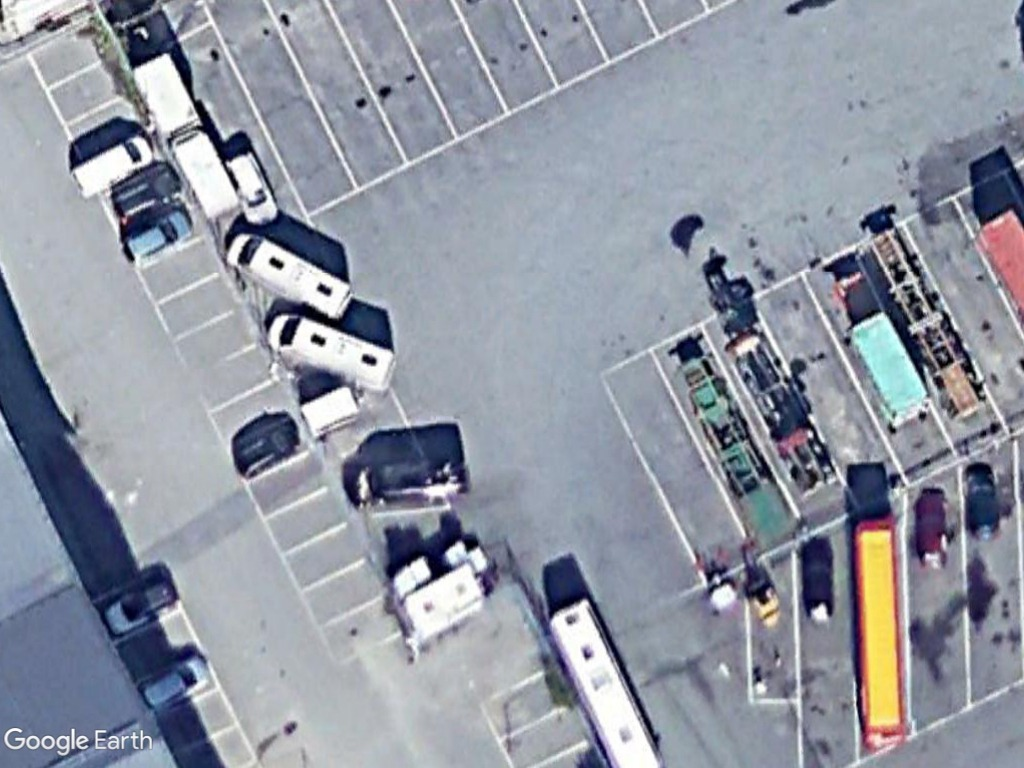car: (98, 570, 187, 641), (106, 151, 185, 226), (117, 197, 197, 270), (131, 650, 216, 714), (223, 144, 282, 230)
van: (258, 303, 404, 398), (219, 229, 359, 323), (70, 128, 164, 209)
